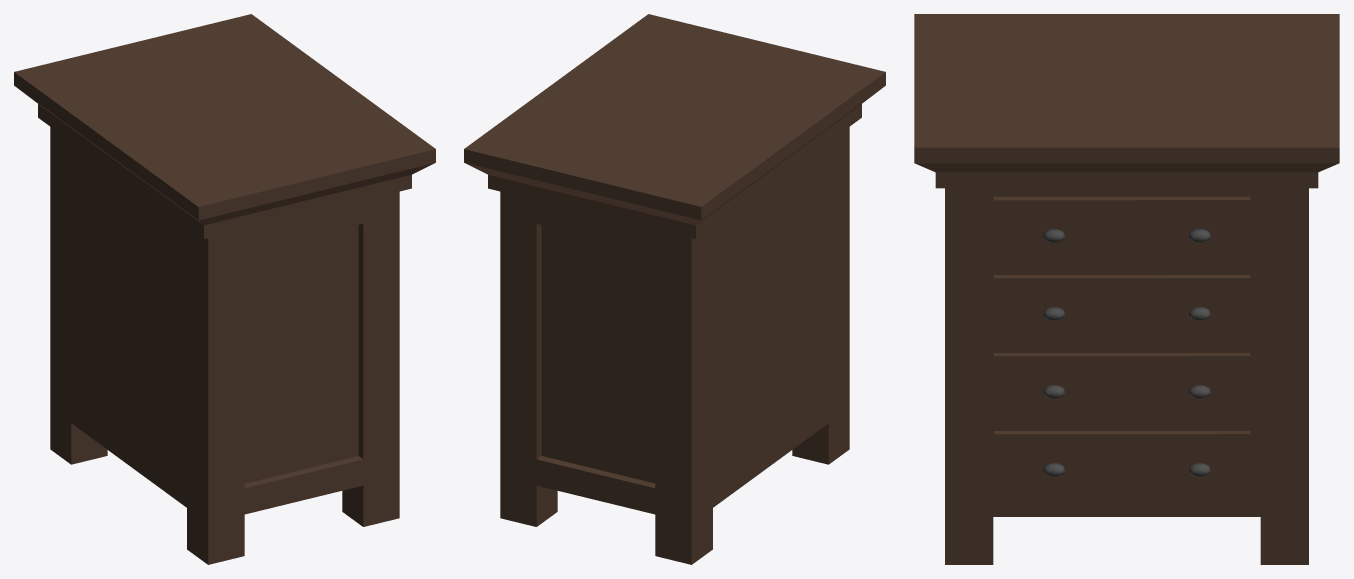
File: S_Forniture_02.fbx
3 renders of one model, left to right at view 1: azimuth 30°, elevation 25°; view 2: azimuth 150°, elevation 25°; view 3: azimuth 270°, elevation 25°, orthographic. The views are drawn at different scales.
Parts seen in each view (by area): view 1: S_Forniture_02; view 2: S_Forniture_02; view 3: S_Forniture_02.
Boxes of the visible parts, x1,y1,x2,y2 form: S_Forniture_02: (14,14,435,564); S_Forniture_02: (464,14,885,564); S_Forniture_02: (914,14,1339,564).
Bounding box in the file's own units: 86.77 × 130 × 117.
